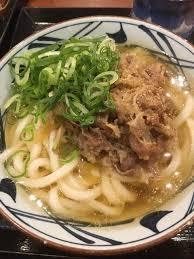niku: (1, 9, 194, 258)
